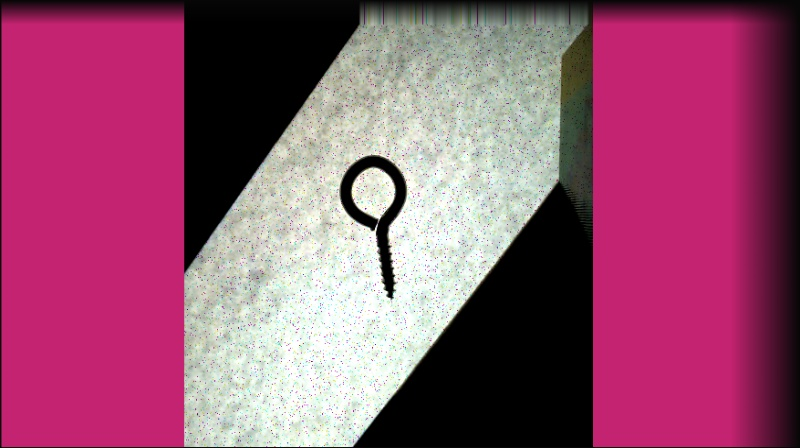O001: (335, 151, 407, 303)
